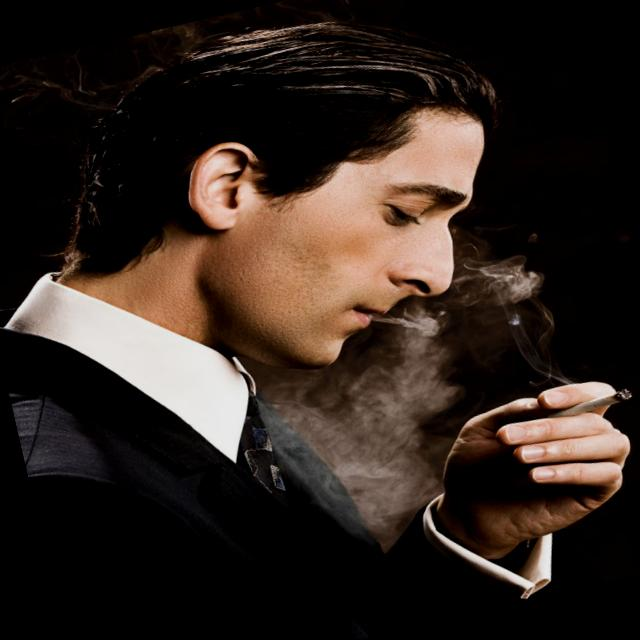cigarette: (521, 377, 640, 435)
